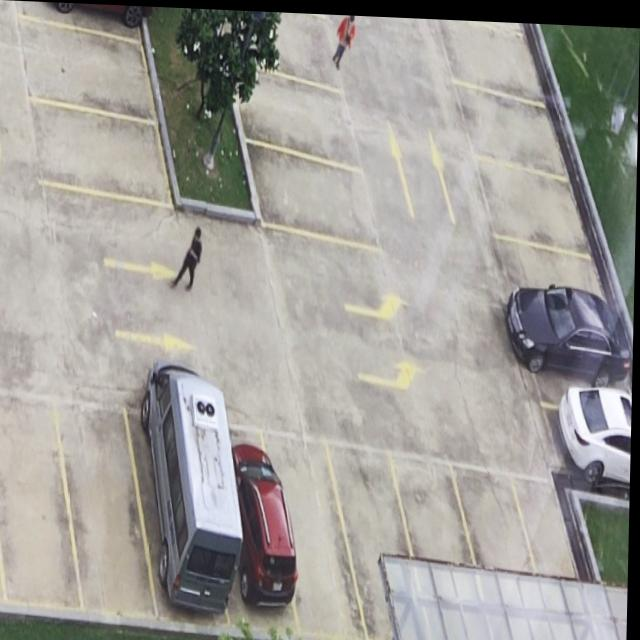car: (143, 361, 245, 610), (508, 280, 631, 380), (235, 442, 300, 601), (561, 381, 634, 479)
freeslot: (318, 415, 444, 640), (381, 431, 507, 640), (51, 393, 167, 620), (261, 419, 377, 638), (443, 444, 568, 640), (0, 379, 92, 619), (24, 87, 177, 220), (505, 462, 610, 640), (244, 128, 389, 256), (12, 7, 161, 130), (229, 47, 368, 177), (471, 150, 598, 262), (450, 69, 576, 180)
